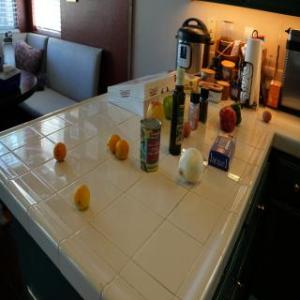bell_pepper: (219, 105, 237, 130), (232, 100, 242, 124)
egg: (262, 109, 272, 125), (182, 120, 190, 138)
onion: (176, 146, 206, 184)
